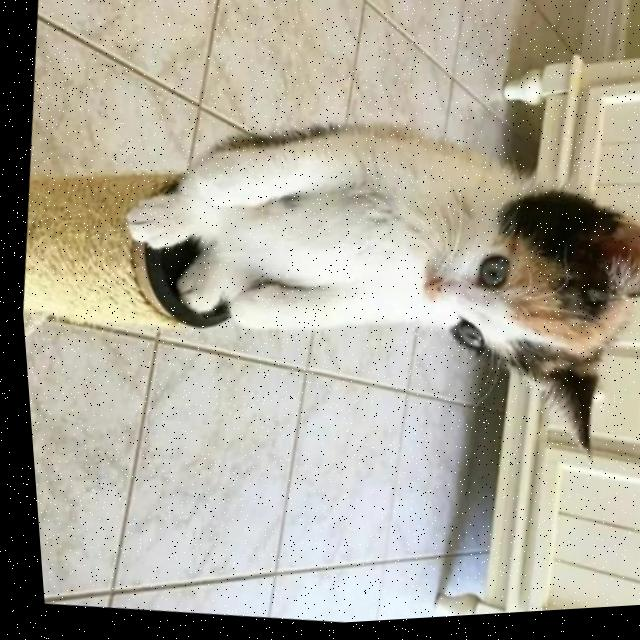Cats: (105, 84, 640, 482)
